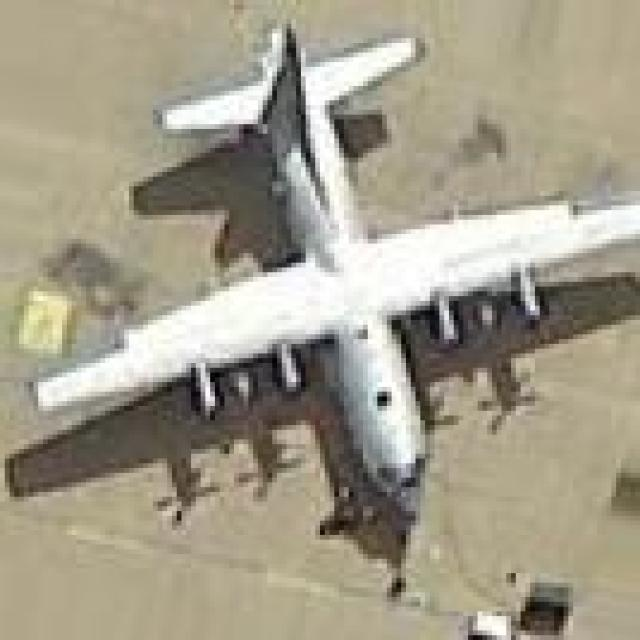C-130_TopDown: (0, 22, 640, 582)
